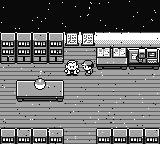leer: (97, 48, 127, 70), (129, 49, 159, 69), (66, 32, 95, 47)
main: (82, 61, 94, 75)
no-caminable: (1, 1, 160, 32), (1, 34, 62, 63), (17, 80, 63, 102), (98, 129, 160, 143), (96, 34, 159, 47), (1, 130, 63, 143)
npc: (64, 62, 80, 76)
poke-ball: (34, 79, 46, 90)
